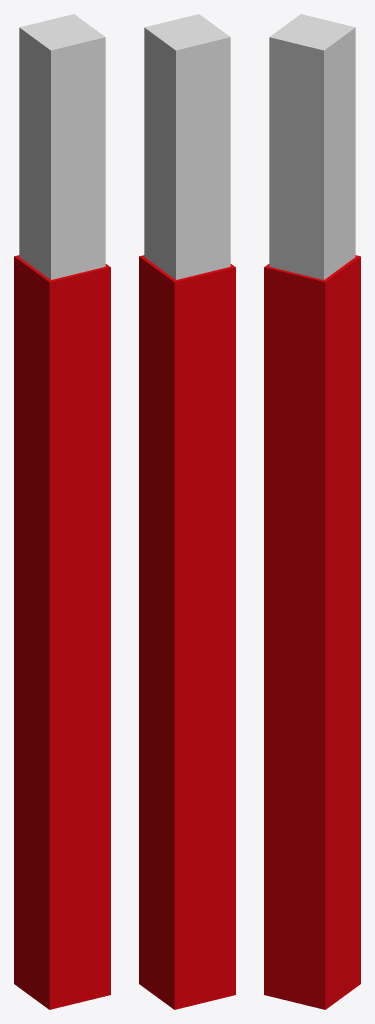
File: BuildProcessAnimation.fbx
3 renders of one model, left to right at view 1: azimuth 30°, elevation 25°; view 2: azimuth 210°, elevation 25°; view 3: azimuth 330°, elevation 25°, orthographic.
Visible parts, largest first — view 1: Cube, Cube.001; view 2: Cube, Cube.001; view 3: Cube, Cube.001.
Boxes of the visible parts, bbox=[...] form: Cube: bbox=[14, 255, 110, 1009]; Cube.001: bbox=[19, 14, 105, 279]; Cube: bbox=[139, 255, 235, 1009]; Cube.001: bbox=[144, 14, 230, 279]; Cube: bbox=[264, 255, 360, 1009]; Cube.001: bbox=[269, 14, 355, 279].
Size of the model in its own units: 200 by 2987 by 200.
